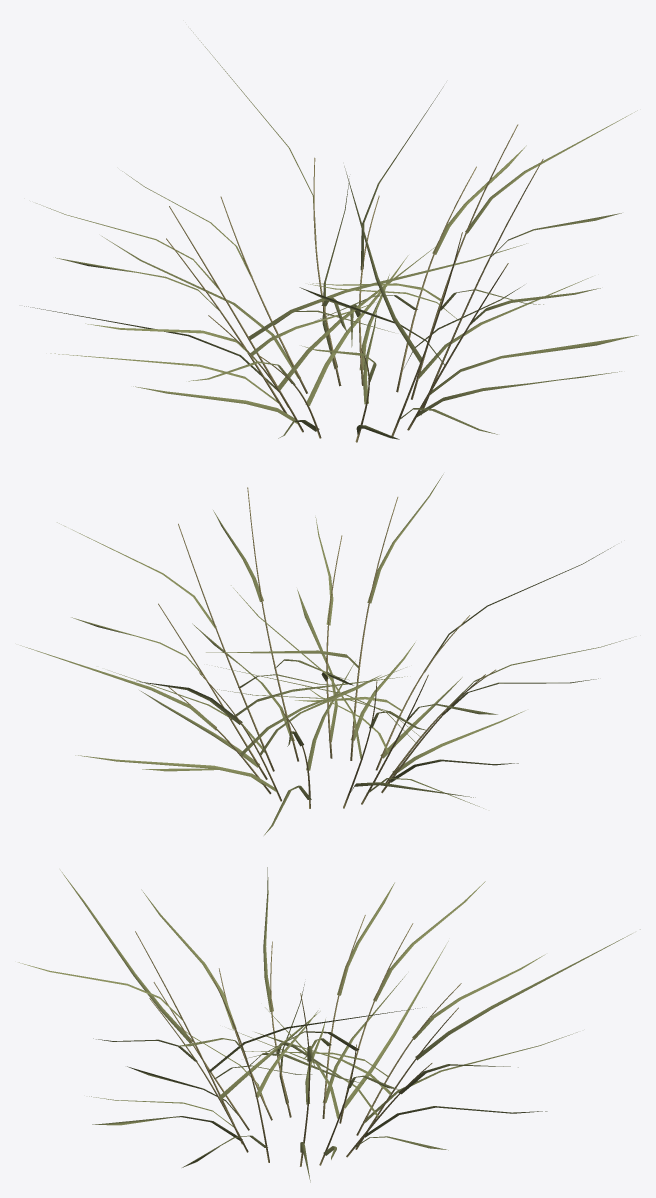
Rendered from Herbes_0_Niveau0.fbx.
3 views of the same model, one above another, from view 1: azimuth 30°, elevation 25°; view 2: azimuth 150°, elevation 25°; view 3: azimuth 270°, elevation 25° (orthographic). The views are drawn at different scales.
Visible parts, largest first — view 1: Herbes_0_Niveau0; view 2: Herbes_0_Niveau0; view 3: Herbes_0_Niveau0.
Part boxes in pixels (x1,y1,x2,y2): Herbes_0_Niveau0: (24,30,638,442); Herbes_0_Niveau0: (20,474,630,835); Herbes_0_Niveau0: (18,867,640,1182).
Bounding box in the file's own units: 66.01 × 27.94 × 69.98.
